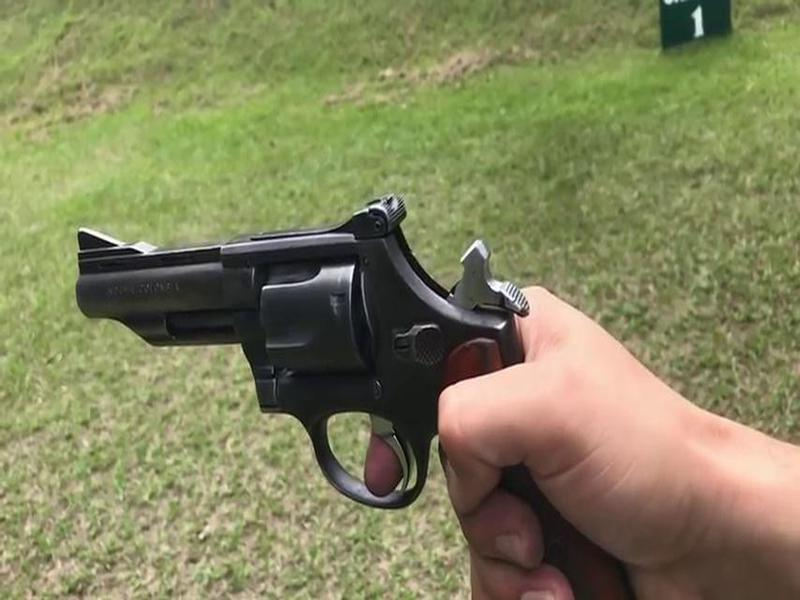Revolver: (69, 166, 646, 582)
